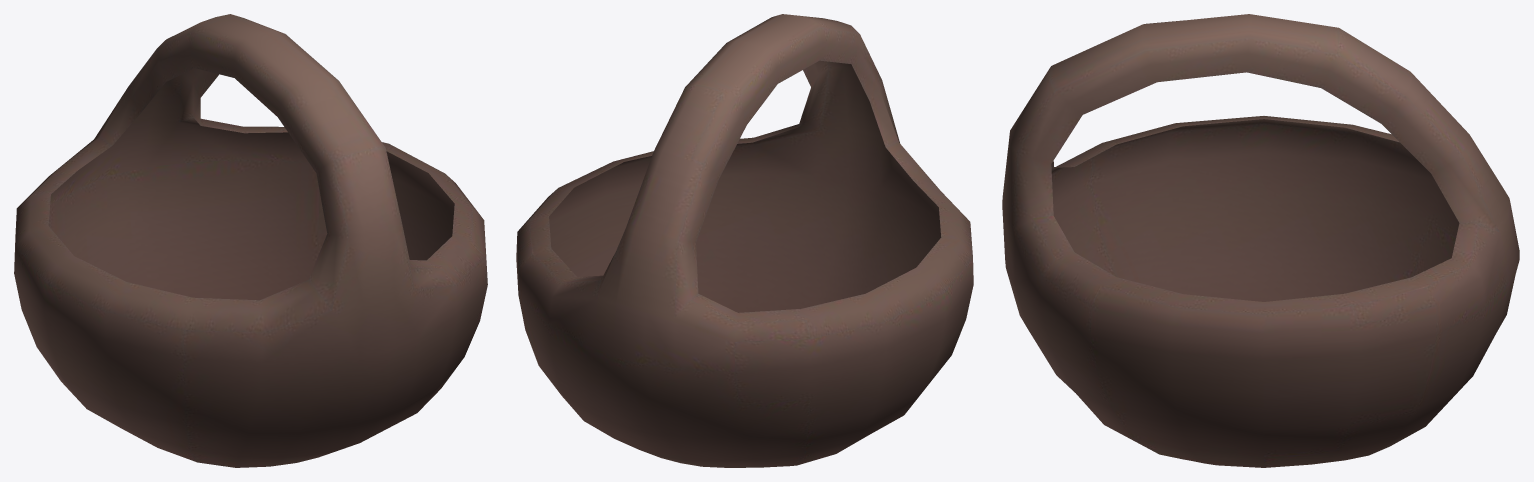
Rendered from Basket.fbx.
3 views of the same model, side by side, from view 1: azimuth 30°, elevation 25°; view 2: azimuth 150°, elevation 25°; view 3: azimuth 270°, elevation 25° (orthographic). The views are drawn at different scales.
Visible parts, largest first — view 1: Basket; view 2: Basket; view 3: Basket.
Boxes of the visible parts, box(x1,y1,x2,y2) form: Basket: box(14, 14, 487, 467); Basket: box(516, 14, 973, 467); Basket: box(1002, 14, 1519, 467).
Size of the model in its own units: 63.08 by 58.46 by 66.23.
